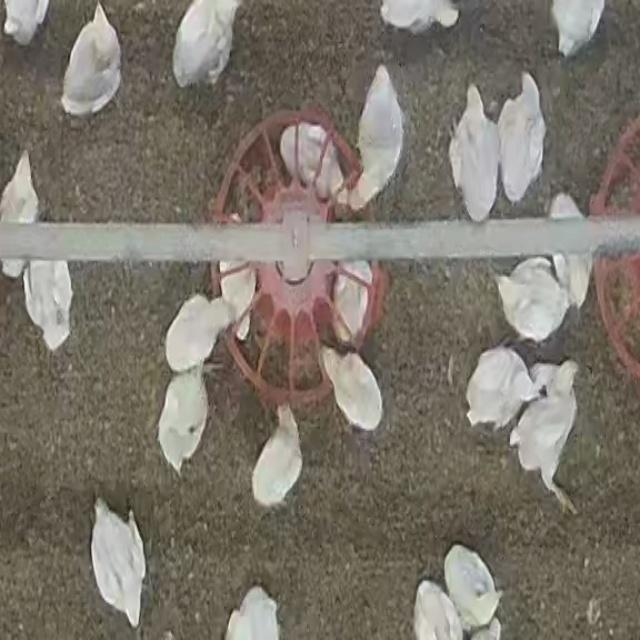chicken: (511, 357, 586, 519), (346, 60, 407, 216), (446, 78, 501, 224), (60, 2, 123, 118), (498, 65, 549, 207), (90, 499, 147, 626), (463, 344, 542, 432), (315, 342, 387, 438), (492, 257, 572, 343), (279, 119, 347, 213), (163, 292, 239, 373), (156, 368, 208, 478), (252, 403, 304, 508), (548, 192, 594, 310), (443, 543, 502, 631), (22, 260, 74, 351), (332, 264, 373, 343), (220, 253, 258, 336)
